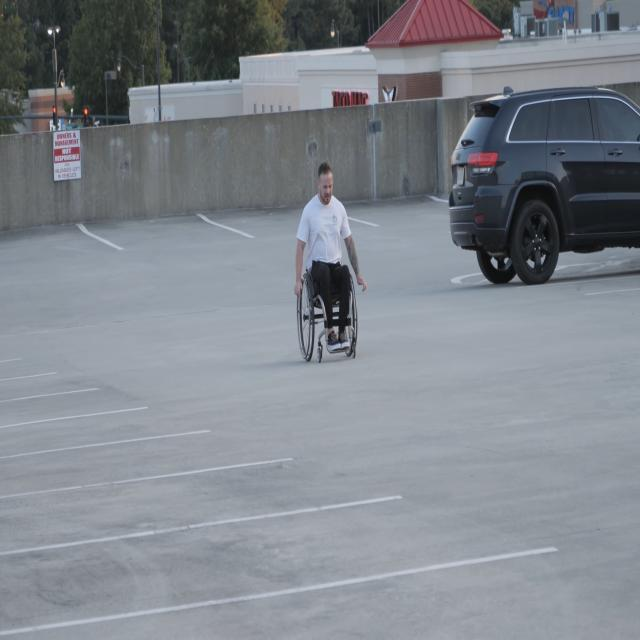wheelchairs: (297, 234, 358, 366)
